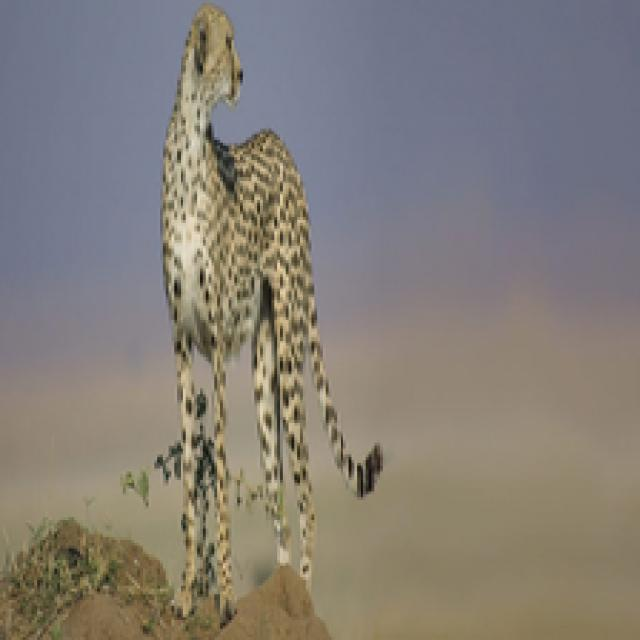cheetah: (132, 7, 376, 629)
